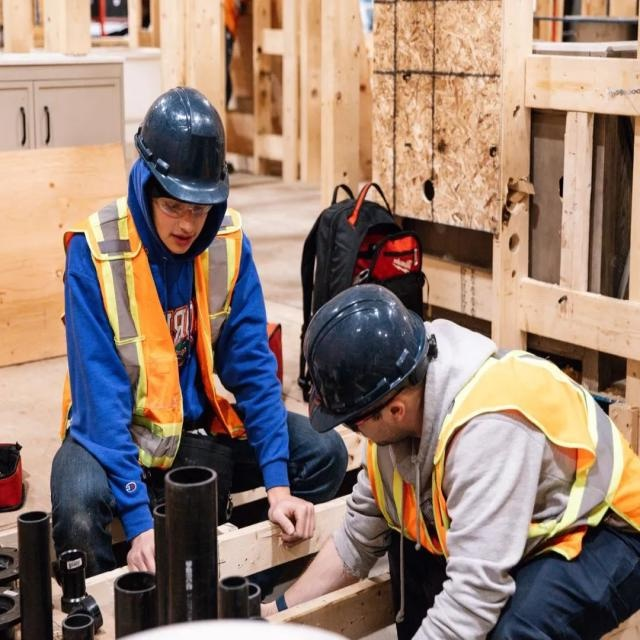goggles: (418, 193, 504, 221)
helmet: (204, 279, 342, 437), (407, 85, 507, 211)
vest: (1, 343, 276, 562), (390, 193, 583, 469)
